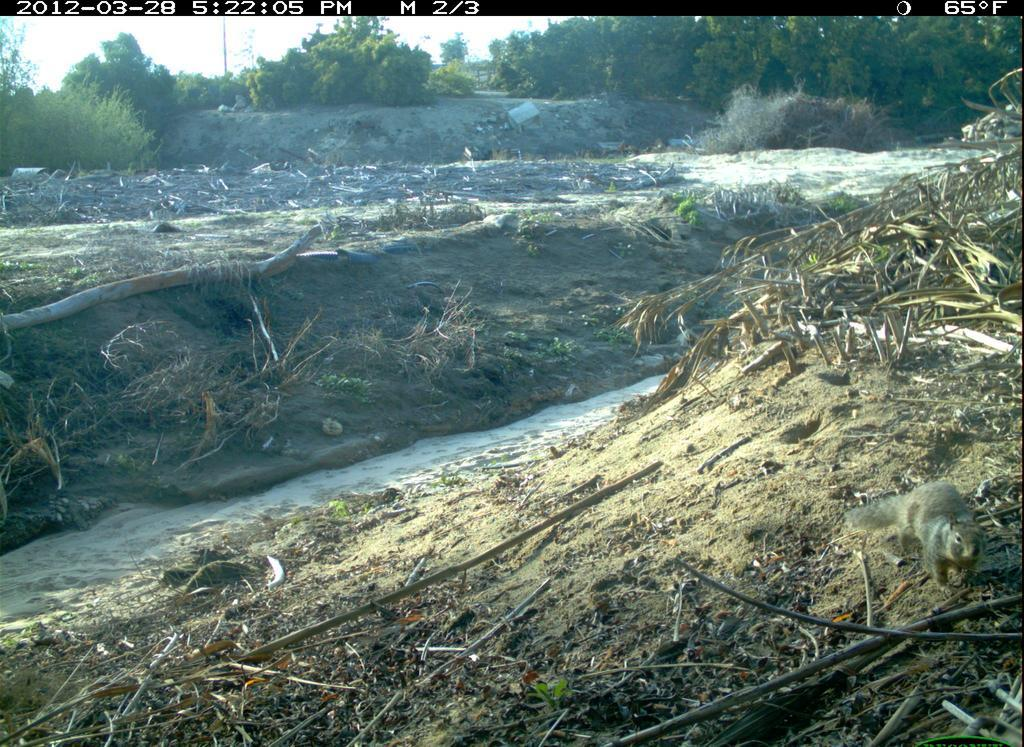squirrel: (843, 478, 987, 600)
